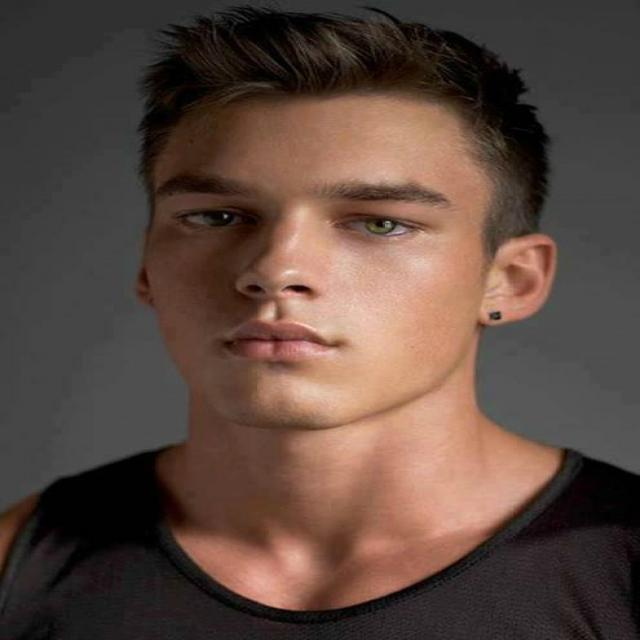earlobe: (480, 294, 514, 328), (133, 282, 158, 306)
eye: (336, 218, 416, 238), (179, 210, 252, 228)
nose: (234, 281, 315, 326)
wholeear: (480, 233, 558, 327)
